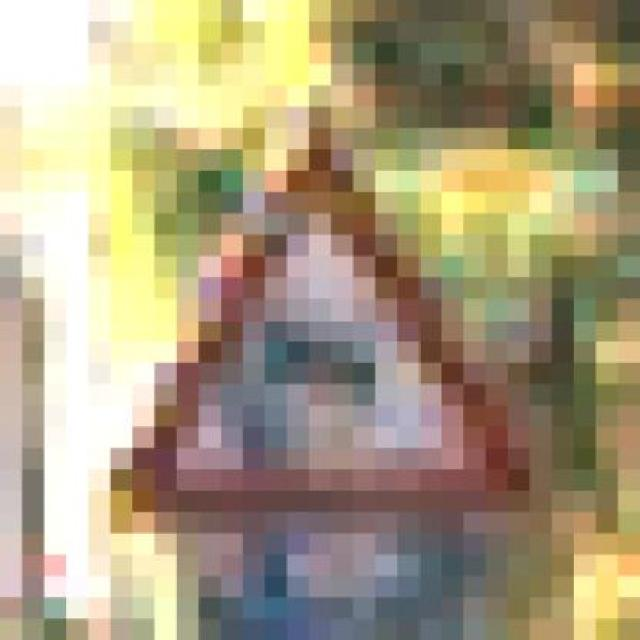Slippery Road Ahead: (80, 130, 542, 515)
